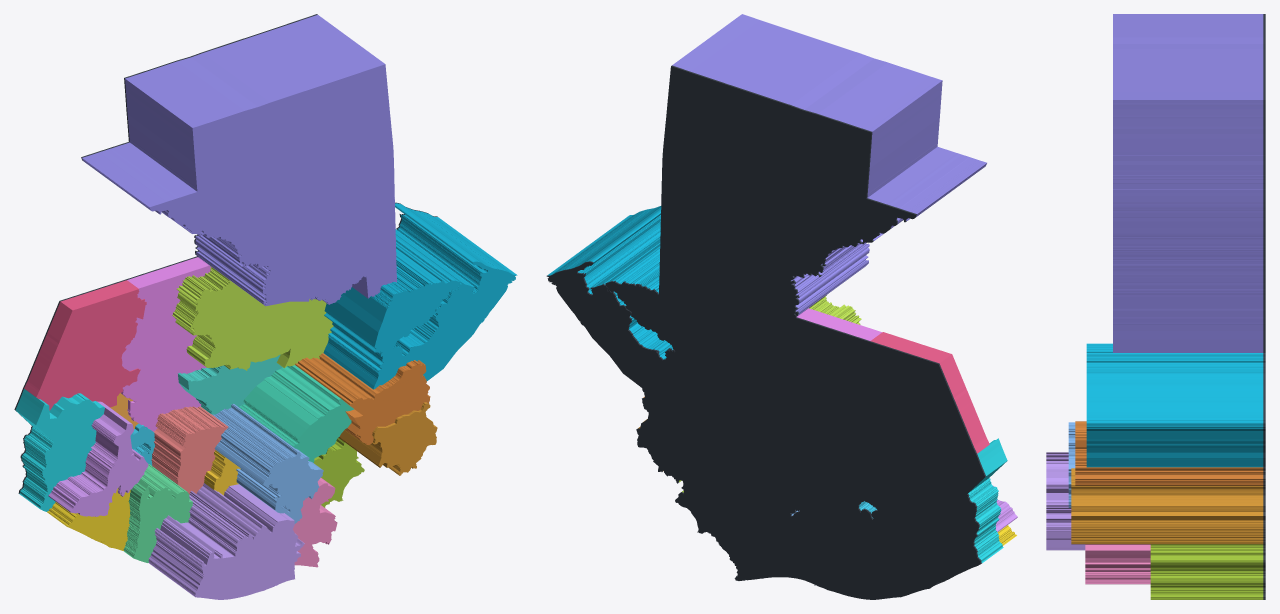
The model's file is modelo_3d_tasa_necropsias_por_100k_multicolor.glb.
The picture shows the model from 3 angles, left to right: view 1: azimuth 30°, elevation 25°; view 2: azimuth 150°, elevation 25°; view 3: azimuth 270°, elevation 25°; orthographic projection. The views are drawn at different scales.
Visible parts, largest first — view 1: depto_17_Petén, depto_18_Izabal, depto_05_Escuintla, depto_16_Alta_Verapaz, depto_13_Huehuetenango, depto_14_Quiché, depto_01_Guatemala, depto_12_San_Marcos, depto_02_El_Progreso, depto_09_Quetzaltenango, depto_19_Zacapa, depto_04_Chimaltenango (+9 smaller); view 2: base_guatemala, depto_17_Petén, depto_18_Izabal, depto_13_Huehuetenango, depto_12_San_Marcos, depto_14_Quiché, depto_16_Alta_Verapaz; view 3: depto_17_Petén, depto_18_Izabal, depto_20_Chiquimula, depto_22_Jutiapa, depto_19_Zacapa, depto_06_Santa_Rosa, depto_05_Escuintla, base_guatemala, depto_01_Guatemala.
Boxes of the visible parts, left/top/right/bottom form: depto_17_Petén: left=82, top=15, right=396, bottom=306; depto_18_Izabal: left=323, top=203, right=517, bottom=389; depto_05_Escuintla: left=148, top=483, right=304, bottom=599; depto_16_Alta_Verapaz: left=172, top=266, right=333, bottom=370; depto_13_Huehuetenango: left=24, top=280, right=146, bottom=410; depto_14_Quiché: left=121, top=257, right=211, bottom=431; depto_01_Guatemala: left=212, top=404, right=323, bottom=523; depto_12_San_Marcos: left=15, top=389, right=104, bottom=511; depto_02_El_Progreso: left=238, top=365, right=354, bottom=462; depto_09_Quetzaltenango: left=48, top=401, right=148, bottom=516; depto_19_Zacapa: left=295, top=353, right=430, bottom=444; depto_04_Chimaltenango: left=151, top=406, right=228, bottom=494; base_guatemala: left=546, top=65, right=985, bottom=599; depto_17_Petén: left=672, top=14, right=986, bottom=316; depto_18_Izabal: left=547, top=206, right=672, bottom=359; depto_13_Huehuetenango: left=870, top=332, right=989, bottom=453; depto_12_San_Marcos: left=968, top=438, right=1007, bottom=562; depto_14_Quiché: left=797, top=308, right=881, bottom=340; depto_16_Alta_Verapaz: left=809, top=295, right=861, bottom=324; depto_17_Petén: left=1113, top=14, right=1263, bottom=352; depto_18_Izabal: left=1086, top=343, right=1263, bottom=467; depto_20_Chiquimula: left=1071, top=468, right=1263, bottom=544; depto_22_Jutiapa: left=1150, top=544, right=1263, bottom=599; depto_19_Zacapa: left=1075, top=421, right=1263, bottom=485; depto_06_Santa_Rosa: left=1085, top=544, right=1150, bottom=584; depto_05_Escuintla: left=1046, top=452, right=1085, bottom=550; base_guatemala: left=1263, top=14, right=1265, bottom=599; depto_01_Guatemala: left=1068, top=422, right=1075, bottom=507.
Size of the model in its own units: 150 by 163 by 60.6.
